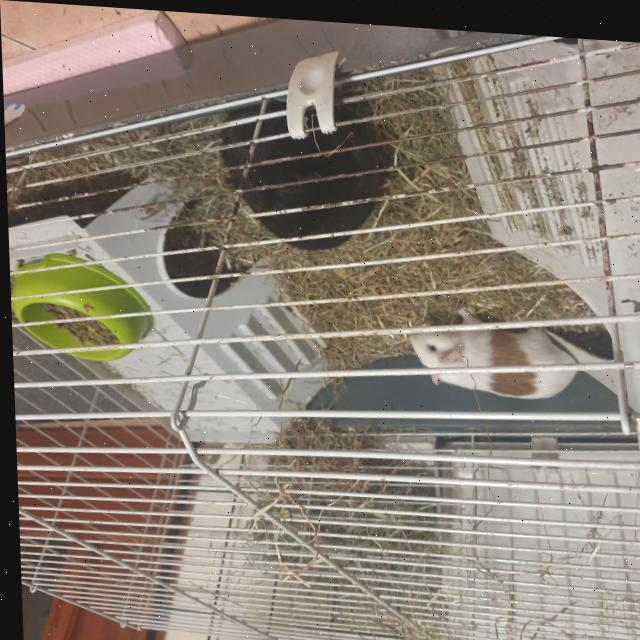guinea pig: (218, 90, 388, 252), (404, 300, 580, 399)
